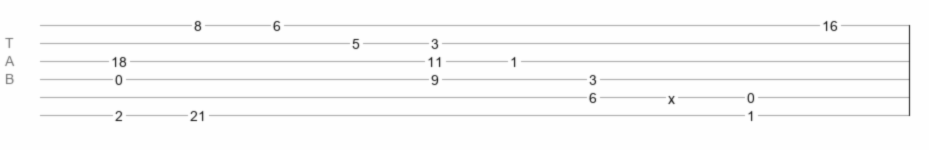0: (115, 72, 123, 82), (747, 90, 755, 100)
1: (510, 54, 518, 64), (747, 108, 755, 118)
11: (427, 54, 443, 64)
16: (822, 18, 838, 28)
18: (111, 54, 127, 64)
2: (115, 108, 123, 118)
21: (190, 108, 206, 118)
3: (431, 36, 439, 46), (589, 72, 597, 82)
5: (352, 36, 360, 46)
6: (273, 18, 281, 28), (589, 90, 597, 100)
8: (194, 18, 202, 28)
9: (431, 72, 439, 82)
x: (668, 91, 675, 99)
